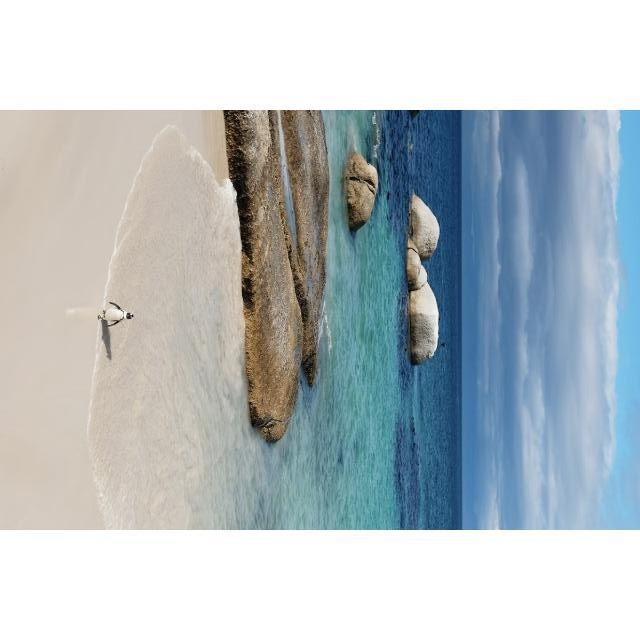penguin: (96, 302, 135, 329)
